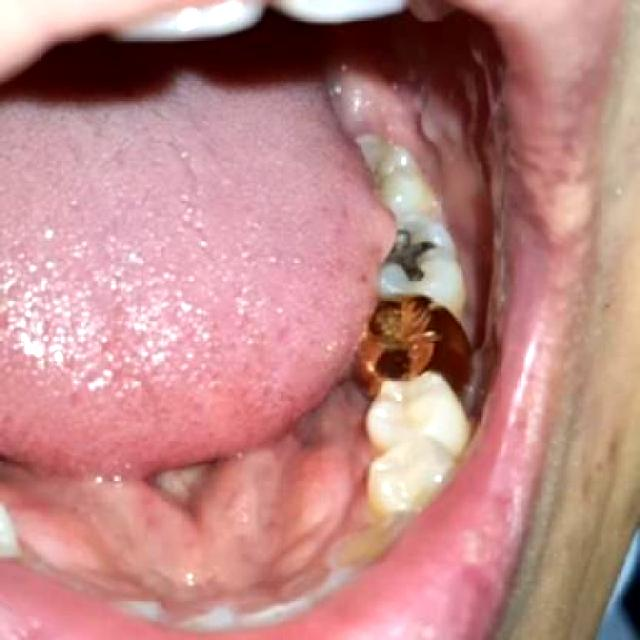Plaque: (341, 107, 395, 154), (357, 156, 399, 203)
